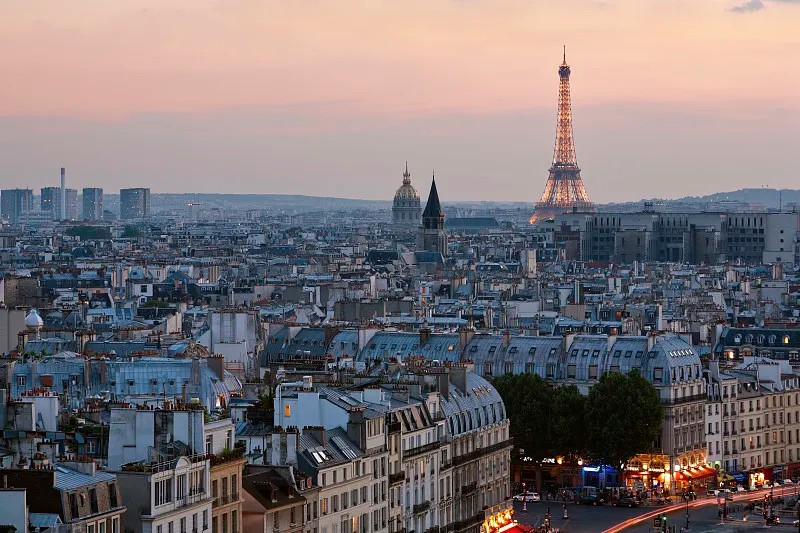Eiffel: (528, 45, 596, 224)
